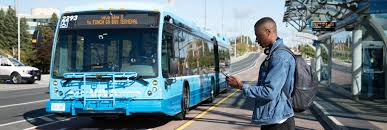bus: (43, 6, 233, 120)
